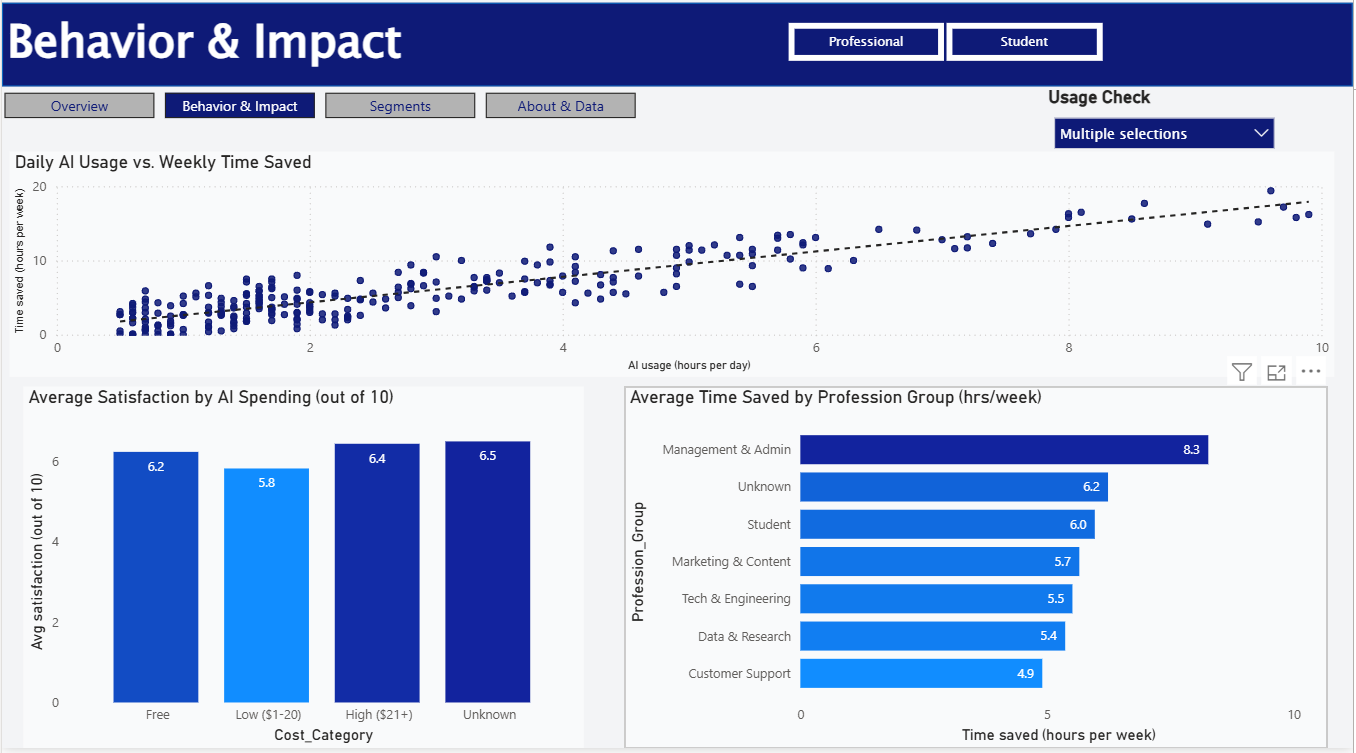

This screenshot's page, from the dashboard's own definition file:
{"tool":"powerbi","page":{"name":"Behavior & Impact","canvas":[1280,720],"ordinal":1},"visuals":[{"type":"shape","box":[0,13,1279.7,79.4],"z":0},{"type":"textbox","box":[0,13.2,503.4,79.1],"z":1000},{"type":"slicer","title":"User Type","fields":{"Values":["AI_Usage.User_Type"]},"box":[718.5,24.5,347.7,50.5],"z":2000},{"type":"scatterChart","title":"Daily AI Usage vs. Weekly Time Saved","fields":{"X":["Avg(AI_Usage.AI_Usage_Hours_Per_Day)"],"Y":["Avg(AI_Usage.Time_Saved_Hours_Per_Week)"],"Category":["AI_Usage.User_ID"]},"box":[7.2,154.4,1255.2,213.5],"z":3000},{"type":"clusteredColumnChart","title":"Average Satisfaction by AI Spending (out of 10)","fields":{"Category":["AI_Usage.Cost_Category"],"Y":["_Measures.Avg Satisfaction"]},"box":[20.2,376.6,530.9,343.4],"z":4000},{"type":"clusteredBarChart","title":"Average Time Saved by Profession Group (hrs/week)","fields":{"Category":["AI_Usage.Profession_Group"],"Y":["_Measures.Avg Time Saved"]},"box":[590.1,376.6,665.1,343.4],"z":5000},{"type":"slicer","title":"Usage Check","fields":{"Values":["AI_Usage.Usage_Outlier_Flag"]},"box":[986.3,92.4,229.3,62.3],"z":6000},{"type":"pageNavigator","box":[2.9,98.1,600.2,24.5],"z":7000}]}

Visuals, with their boxes in screenshot pixels (x1, y1, x2, y2), scaled from the page's 1280x720 canvas onto the 1356x753 screenshot:
shape: 0,14,1355,97
textbox: 0,14,533,97
"User Type" slicer: 761,26,1130,78
"Daily AI Usage vs. Weekly Time Saved" scatterChart: 8,161,1337,385
"Average Satisfaction by AI Spending (out of 10)" clusteredColumnChart: 21,394,584,752
"Average Time Saved by Profession Group (hrs/week)" clusteredBarChart: 625,394,1330,752
"Usage Check" slicer: 1045,97,1288,162
pageNavigator: 3,103,639,128
